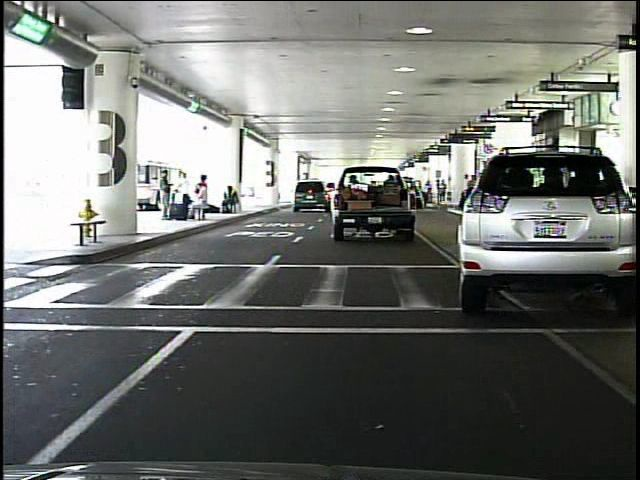person: (156, 167, 176, 220)
